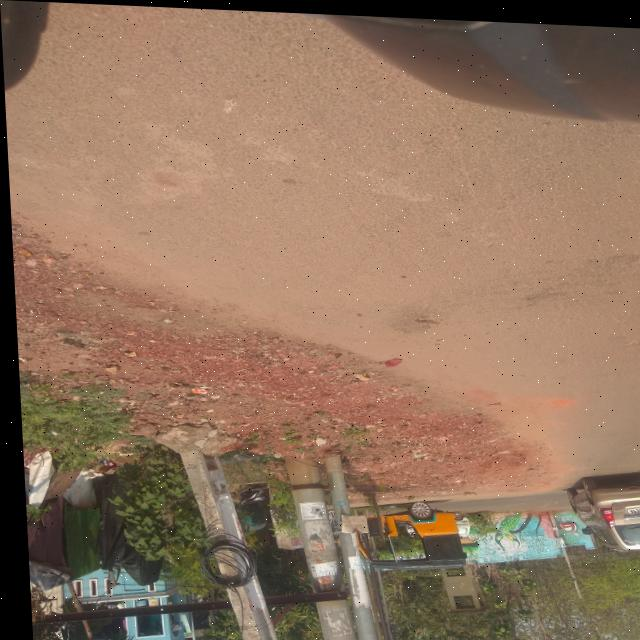plate: (622, 496, 640, 513)
